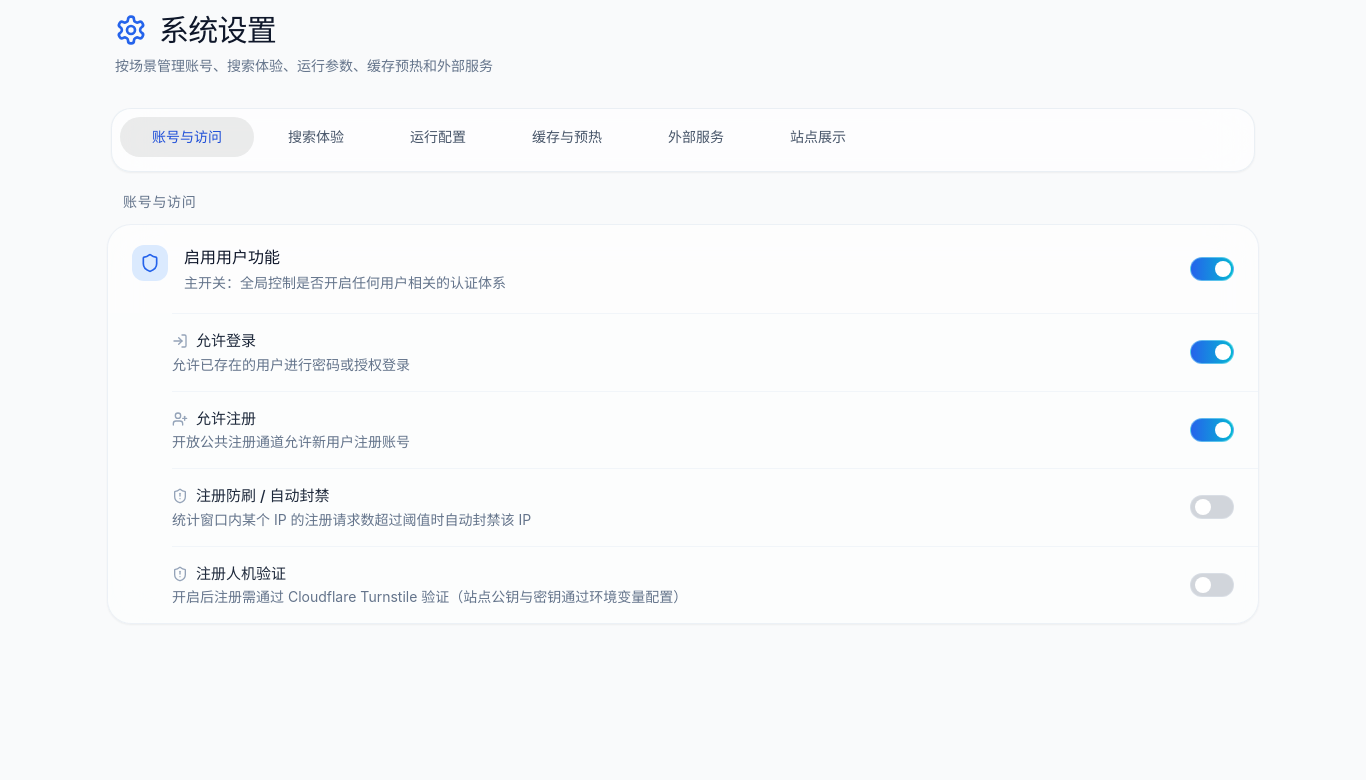
SystemSettingsView TMDB section › 优先展示后端返回的缓存下拉项
The width and height of the screenshot is (1366, 780).
Step 1. Click the tab "缓存与预热" → (567, 136), box [532,128,602,145]
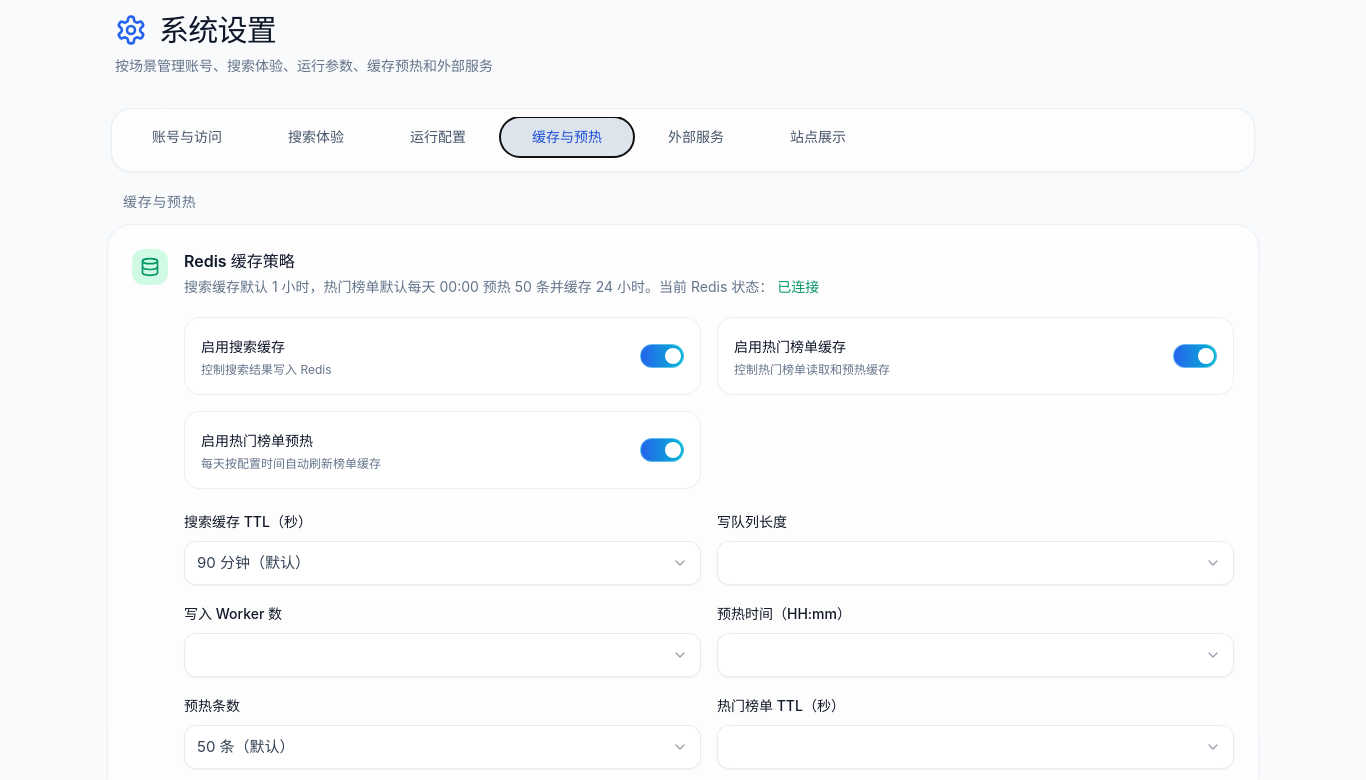
Expected: the dropdown named "搜索缓存 TTL（秒）" reads "90 分钟（默认）", [184,541,701,585]
